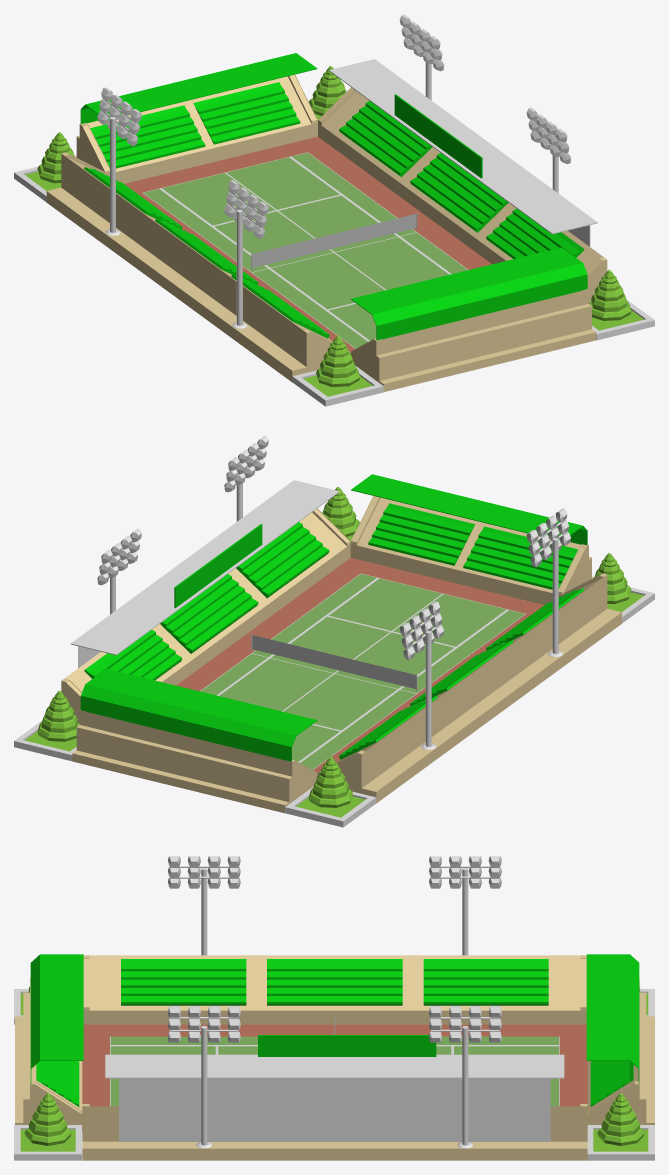
Rendered from uploads_files_3790712_Tennis+Court.fbx.
3 views of the same model, one above another, from view 1: azimuth 30°, elevation 25°; view 2: azimuth 150°, elevation 25°; view 3: azimuth 270°, elevation 25° (orthographic). The views are drawn at different scales.
Parts seen in each view (by area): view 1: Plane, Cube, Cube.001, Plane.003, Cube.004, Plane.002, Cube.005, Cylinder.001, Cylinder.002, Cube.003, Plane.001, Cube.002; view 2: Plane, Cube, Cube.001, Plane.003, Cube.004, Plane.002, Cube.005, Cylinder.001, Cylinder.002, Cube.003, Plane.001, Cube.002; view 3: Plane.002, Cube, Cube.004, Plane, Plane.003, Cylinder.001, Cube.001, Cube.003, Cube.002, Cylinder.002, Cube.005.
Part boxes in pixels (<box>): Plane: <box>124,136,491,353</box>; Cube: <box>46,87,607,382</box>; Cube.001: <box>74,74,596,391</box>; Plane.003: <box>80,53,587,340</box>; Cube.004: <box>84,101,584,338</box>; Plane.002: <box>329,59,597,246</box>; Cube.005: <box>90,82,300,168</box>; Cylinder.001: <box>97,14,571,328</box>; Cylinder.002: <box>37,66,631,386</box>; Cube.003: <box>14,100,654,406</box>; Plane.001: <box>252,214,416,267</box>; Cube.002: <box>394,94,482,178</box>; Plane: <box>176,558,544,774</box>; Cube: <box>61,508,621,803</box>; Cube.001: <box>72,496,594,813</box>; Plane.003: <box>80,474,587,761</box>; Cube.004: <box>84,522,584,759</box>; Plane.002: <box>70,480,339,667</box>; Cube.005: <box>368,503,577,589</box>; Cylinder.001: <box>97,435,570,749</box>; Cylinder.002: <box>37,487,631,807</box>; Cube.003: <box>14,521,654,827</box>; Plane.001: <box>252,635,416,688</box>; Cube.002: <box>174,524,262,608</box>; Plane.002: <box>105,1054,564,1141</box>; Cube: <box>82,955,587,1160</box>; Cube.004: <box>121,959,548,1005</box>; Plane: <box>82,1024,587,1106</box>; Plane.003: <box>30,954,639,1083</box>; Cylinder.001: <box>168,856,501,1148</box>; Cube.001: <box>15,977,654,1131</box>; Cube.003: <box>14,989,654,1160</box>; Cube.002: <box>258,1035,436,1056</box>; Cylinder.002: <box>24,986,644,1145</box>; Cube.005: <box>36,1061,633,1106</box>.
Size of what is drawn, in the model's own units: 1499 by 620 by 2456.
